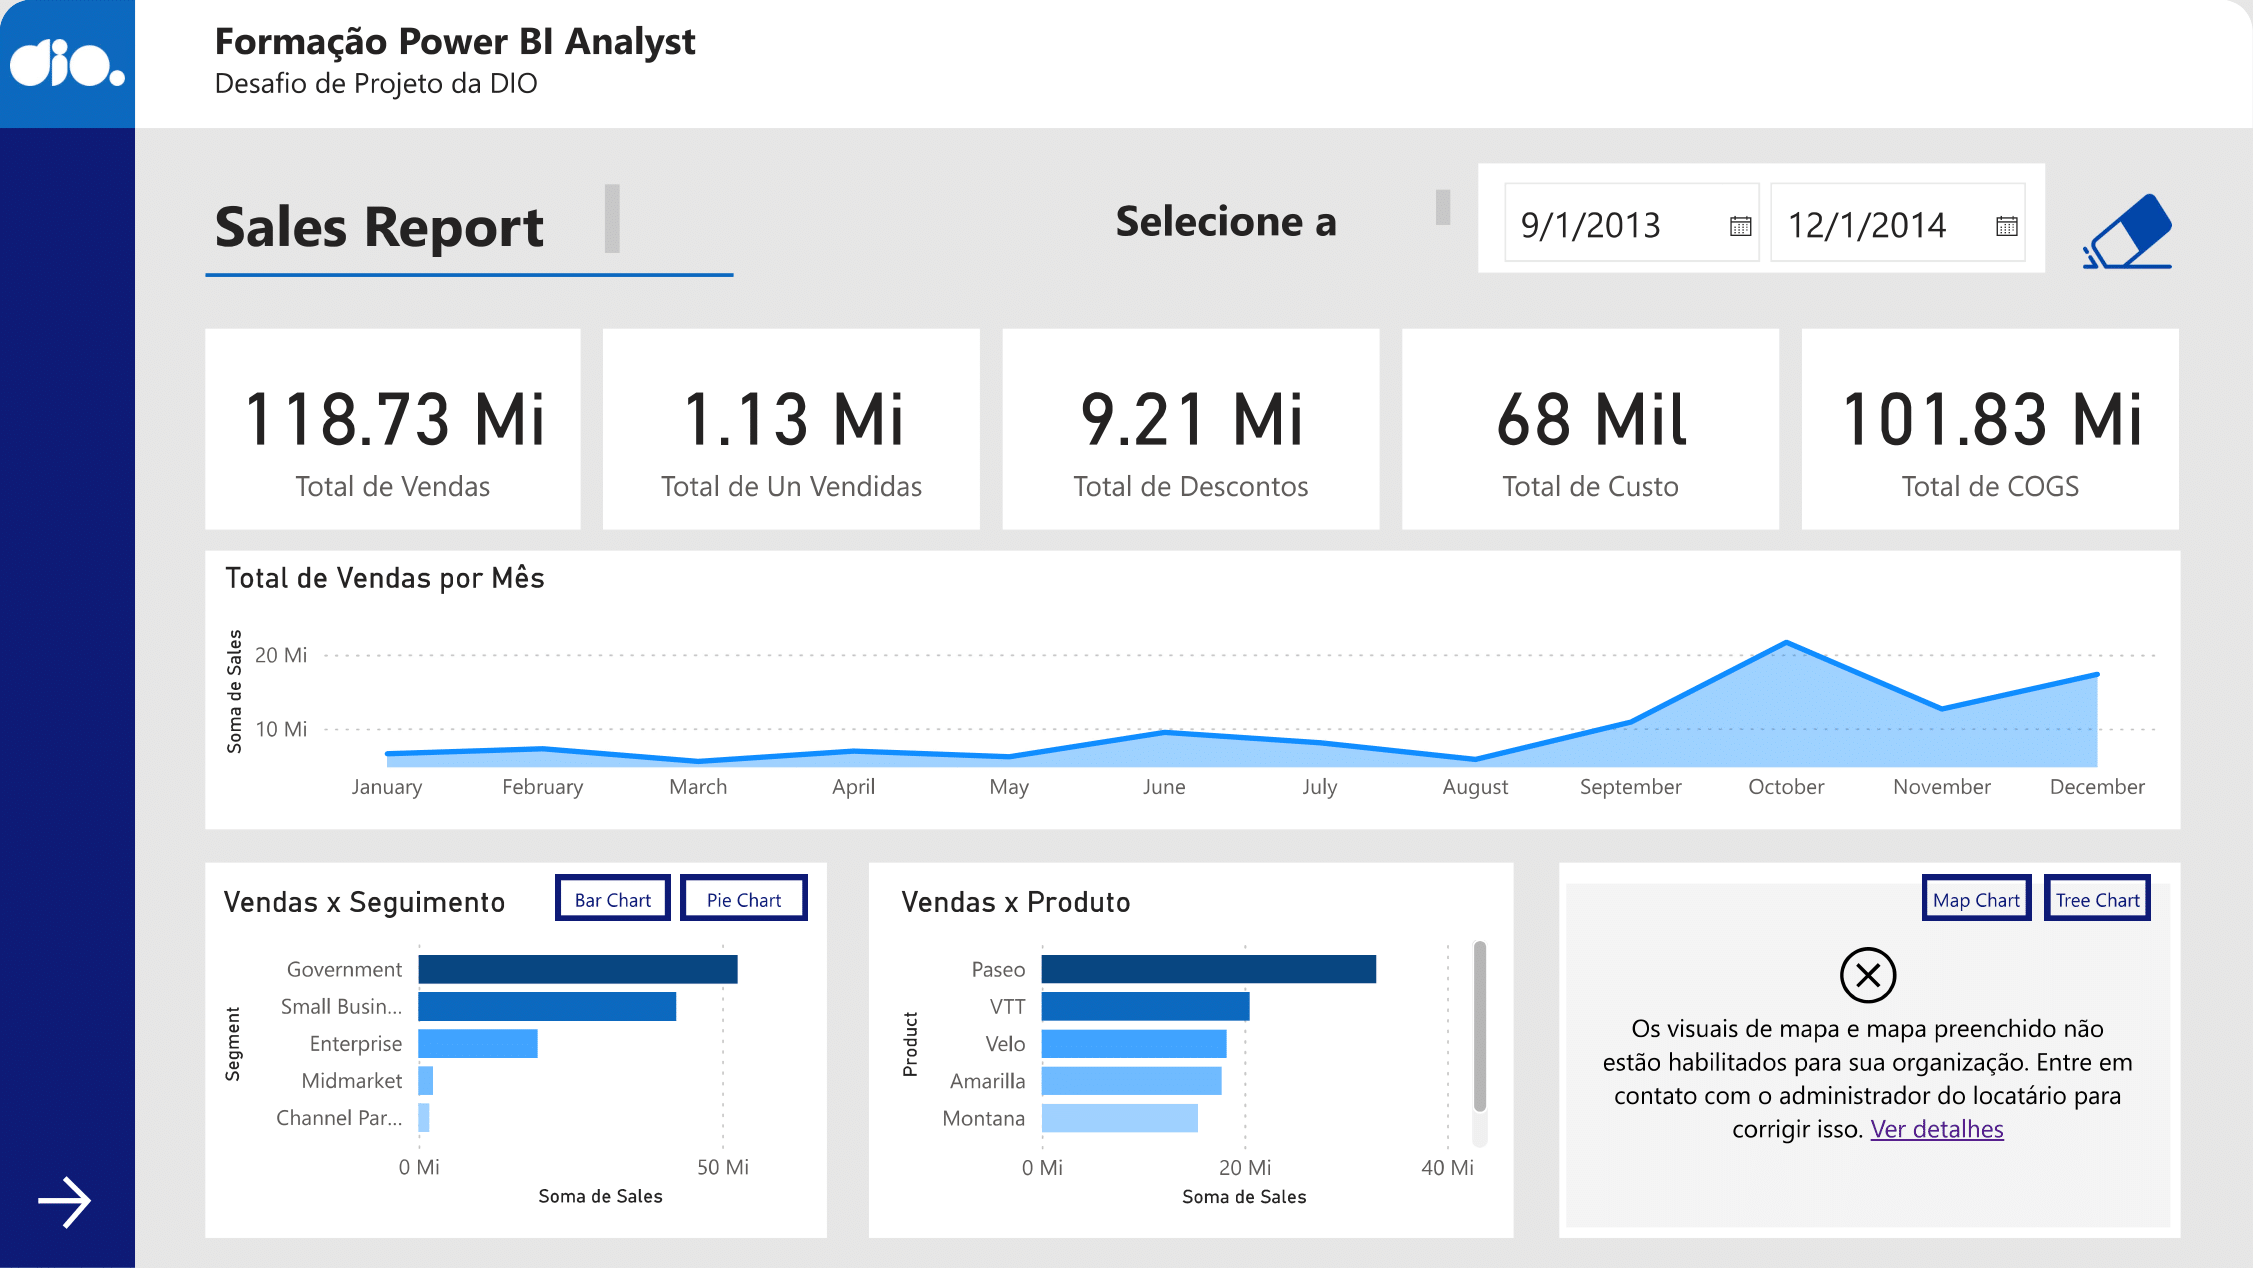

The dashboard page shown, as its layout file describes it:
{"tool":"powerbi","page":{"name":"Page 1","canvas":[1280,720],"ordinal":0},"visuals":[{"type":"shape","box":[0,0,1280,720],"z":0},{"type":"shape","box":[840,92.9,321.7,61.7],"z":0,"group":"g2"},{"type":"textbox","box":[116.7,100,240.4,50.5],"z":0,"group":"g1"},{"type":"slicer","fields":{"Values":["financials.Date"]},"box":[841.7,94.2,321.2,61.2],"z":1000,"group":"g2"},{"type":"textbox","box":[628.6,102.9,200,45.7],"z":1000},{"type":"shape","box":[116.7,126,300.1,61.2],"z":1000,"group":"g1"},{"type":"shape","box":[0,0,76.6,719.6],"z":2000},{"type":"shape","box":[0,0,76.6,73.5],"z":3000},{"type":"shape","box":[76.6,0,1203.4,73.5],"z":4000},{"type":"textbox","box":[116.7,3.3,341.7,66.7],"z":5000},{"type":"image","box":[0,18.4,76.6,35.2],"z":6000},{"type":"image","box":[1178.6,100,60,62.9],"z":7000},{"type":"group","id":"g1","title":"Group 2","box":[116.7,100,300,86.7],"z":8000},{"type":"group","id":"g2","title":"FILTRO TEMPO","box":[840,92.9,322.9,64.3],"z":9000},{"type":"shape","box":[117.1,312.9,1121.4,158.6],"z":10000},{"type":"shape","box":[117.1,490,352.9,212.9],"z":11000},{"type":"shape","box":[494.3,490,365.7,212.9],"z":12000},{"type":"shape","box":[885.7,490,352.9,212.9],"z":13000},{"type":"group","id":"g3","title":"Group 1","box":[117.1,187.1,1121.4,114.3],"z":14000},{"type":"card","title":"resre","fields":{"Values":["Sum(financials. Sales)"]},"box":[117.1,187.1,212.9,114.3],"z":14000,"group":"g3"},{"type":"card","fields":{"Values":["Sum(financials.Units Sold)"]},"box":[342.8,187.1,214.3,114.3],"z":15000,"group":"g3"},{"type":"areaChart","title":"Total de Vendas por Mês","fields":{"Category":["financials.Date.Variation.Date Hierarchy.Month"],"Y":["Sum(financials. Sales)"]},"box":[123.3,318.3,1108.3,146.7],"z":15000},{"type":"card","fields":{"Values":["Sum(financials.COGS)"]},"box":[1024.2,187.1,214.3,114.3],"z":16000,"group":"g3"},{"type":"pieChart","title":"Vendas x Seguimento","fields":{"Category":["financials.Segment"],"Y":["Sum(financials. Sales)"]},"box":[121.2,501.2,343.8,188.8],"z":16000},{"type":"clusteredBarChart","title":"Vendas x Seguimento","fields":{"Y":["Sum(financials. Sales)"],"Category":["financials.Segment"]},"box":[121.7,501.7,343.3,188.3],"z":17000},{"type":"clusteredBarChart","title":"Vendas x Produto","fields":{"Y":["Sum(financials. Sales)"],"Category":["financials.Product"]},"box":[506.7,501.7,343.3,188.3],"z":18000},{"type":"card","fields":{"Values":["Sum(financials.Manufacturing Price)"]},"box":[797.1,187.1,214.3,114.3],"z":19000,"group":"g3"},{"type":"map","title":"Vendas x Estado","fields":{"Category":["financials.Country"],"Size":["Sum(financials. Sales)"]},"box":[890,502,343,195],"z":20000},{"type":"card","fields":{"Values":["Sum(financials.Discounts)"]},"box":[570,187.1,214.3,114.3],"z":21000,"group":"g3"},{"type":"actionButton","box":[15.7,662.9,45.7,40],"z":21000},{"type":"actionButton","box":[386.9,496.9,71.9,26.2],"z":22000},{"type":"actionButton","box":[316.2,496.9,65,26.2],"z":23000},{"type":"actionButton","box":[1091.7,496.7,62.5,26.7],"z":24000},{"type":"actionButton","box":[1161.7,496.7,60,26.7],"z":25000}]}

Visuals, with their boxes in screenshot pixels (x1, y1, x2, y2), scaled from the page's 1280x720 canvas onto the 2253x1268 screenshot:
shape: (left=0, top=0, right=2252, bottom=1267)
shape: (left=1479, top=164, right=2045, bottom=272)
textbox: (left=205, top=176, right=629, bottom=265)
slicer - financials.Date: (left=1482, top=166, right=2047, bottom=274)
textbox: (left=1106, top=181, right=1458, bottom=262)
shape: (left=205, top=222, right=734, bottom=330)
shape: (left=0, top=0, right=135, bottom=1267)
shape: (left=0, top=0, right=135, bottom=129)
shape: (left=135, top=0, right=2252, bottom=129)
textbox: (left=205, top=6, right=807, bottom=123)
image: (left=0, top=32, right=135, bottom=94)
image: (left=2075, top=176, right=2180, bottom=287)
"Group 2" group: (left=205, top=176, right=733, bottom=329)
"FILTRO TEMPO" group: (left=1479, top=164, right=2047, bottom=277)
shape: (left=206, top=551, right=2180, bottom=830)
shape: (left=206, top=863, right=827, bottom=1238)
shape: (left=870, top=863, right=1514, bottom=1238)
shape: (left=1559, top=863, right=2180, bottom=1238)
"Group 1" group: (left=206, top=330, right=2180, bottom=531)
"resre" card: (left=206, top=330, right=581, bottom=531)
card - Sum(financials.Units Sold): (left=603, top=330, right=981, bottom=531)
"Total de Vendas por Mês" areaChart: (left=217, top=561, right=2168, bottom=819)
card - Sum(financials.COGS): (left=1803, top=330, right=2180, bottom=531)
"Vendas x Seguimento" pieChart: (left=213, top=883, right=818, bottom=1215)
"Vendas x Seguimento" clusteredBarChart: (left=214, top=884, right=818, bottom=1215)
"Vendas x Produto" clusteredBarChart: (left=892, top=884, right=1496, bottom=1215)
card - Sum(financials.Manufacturing Price): (left=1403, top=330, right=1780, bottom=531)
"Vendas x Estado" map: (left=1567, top=884, right=2170, bottom=1227)
card - Sum(financials.Discounts): (left=1003, top=330, right=1380, bottom=531)
actionButton: (left=28, top=1167, right=108, bottom=1238)
actionButton: (left=681, top=875, right=808, bottom=921)
actionButton: (left=557, top=875, right=671, bottom=921)
actionButton: (left=1922, top=875, right=2032, bottom=922)
actionButton: (left=2045, top=875, right=2150, bottom=922)
